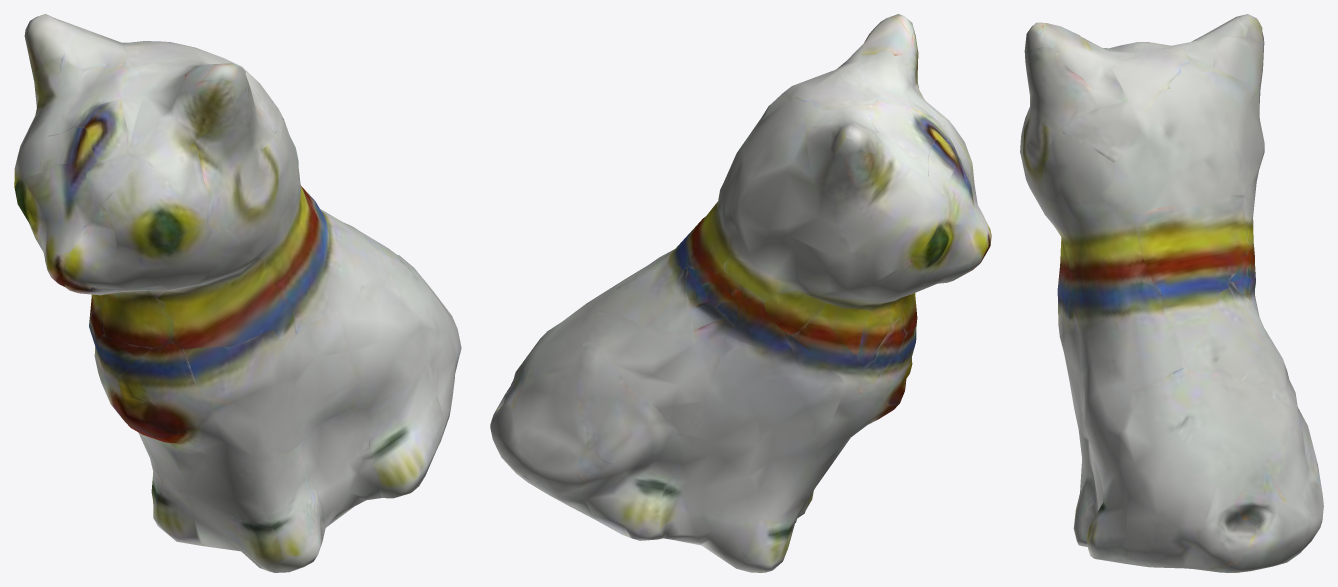
Rendered from hall.glb.
3 views of the same model, side by side, from view 1: azimuth 30°, elevation 25°; view 2: azimuth 150°, elevation 25°; view 3: azimuth 270°, elevation 25° (orthographic). The views are drawn at different scales.
Size of the model in its own units: 0.6072 by 0.6865 by 0.3864.
1 material, 1 textured.
